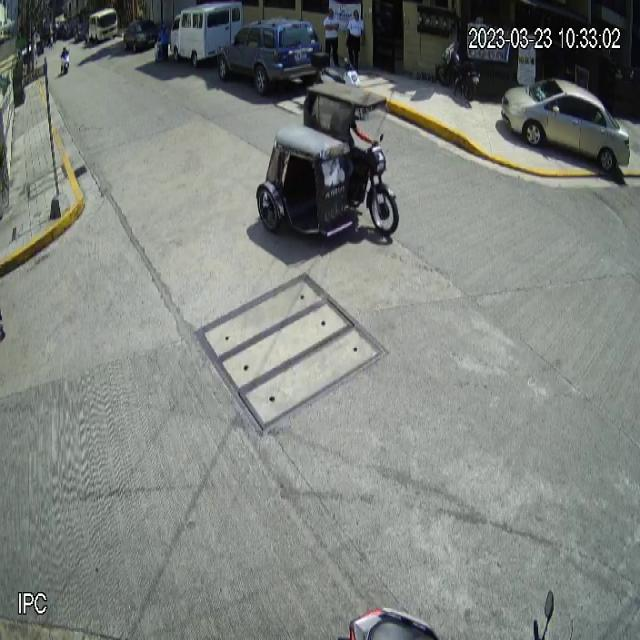Car: (501, 77, 632, 172), (216, 18, 322, 96)
Tricycle: (256, 81, 399, 243)
Van: (170, 1, 244, 70)
